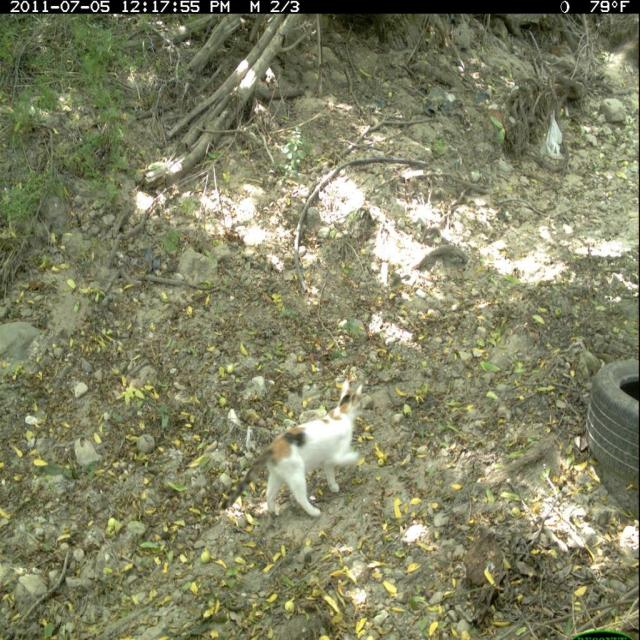cat: (217, 383, 378, 526)
